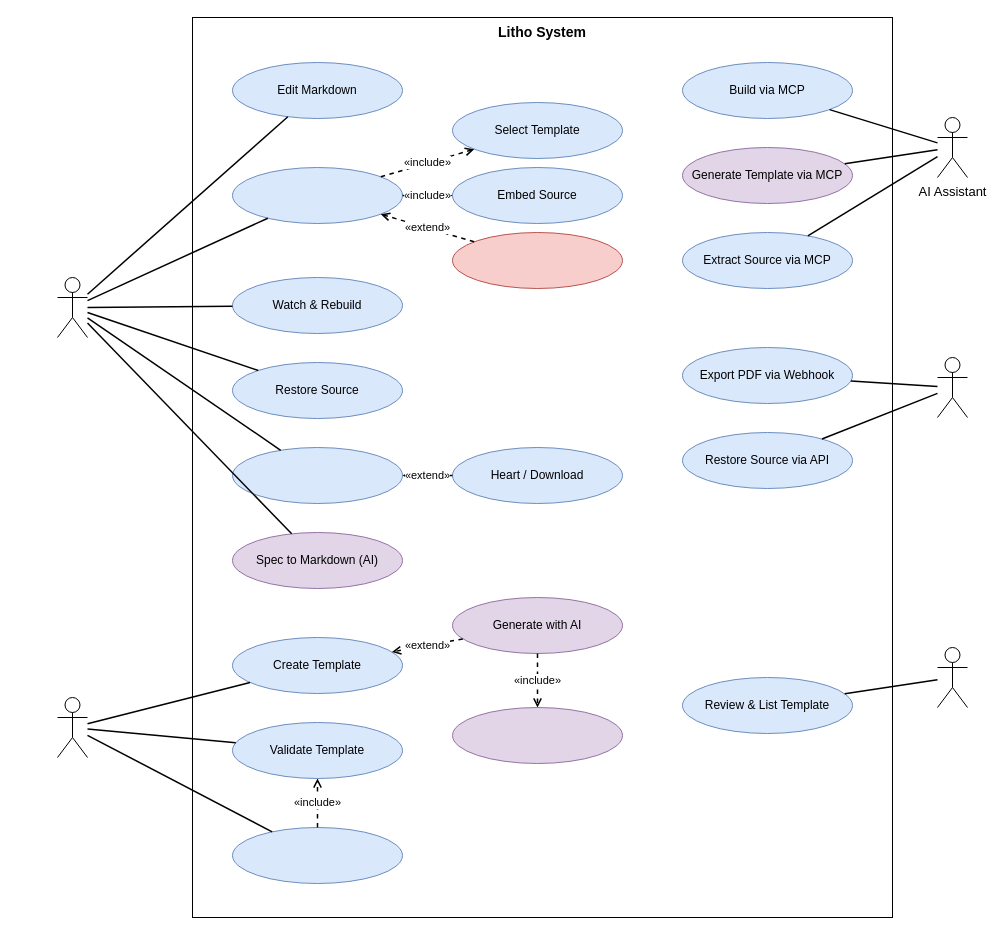
Some shapes in this 1004 by 935 pixel diagram are drawn without their labels. Here are the shapes that lost their labels. From the top down, the centre of each, then its label:
At [317,195]: "Build PDF".
At [537,260]: "Show Errors".
At [72,307]: "Author / Student".
At [952,387]: "CMS Site".
At [317,475]: "Browse Templates".
At [952,677]: "Maintainer".
At [72,727]: "Template Publisher".
At [537,735]: "Review Security (AI)".
At [317,855]: "Submit Template".
